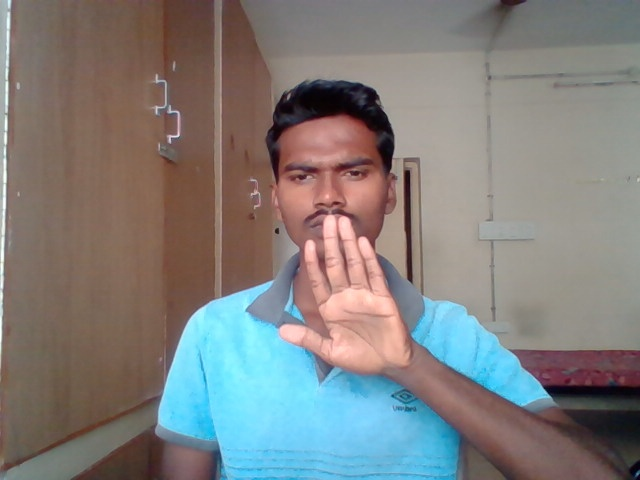Hello: (277, 212, 418, 373)
